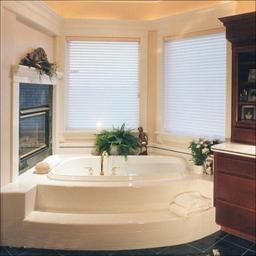Armario: (218, 17, 255, 240)
Ventana: (63, 38, 144, 135), (160, 37, 226, 143)
